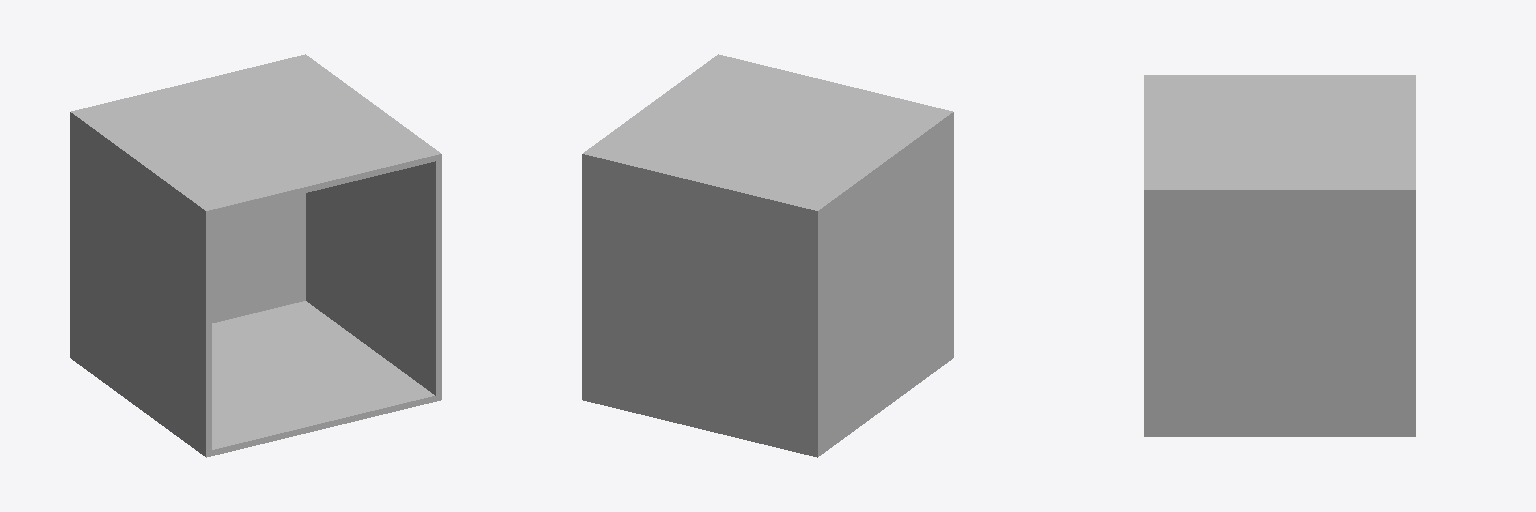
File: cage.obj
The picture shows the model from 3 angles: view 1: azimuth 30°, elevation 25°; view 2: azimuth 150°, elevation 25°; view 3: azimuth 270°, elevation 25°; orthographic projection.
Parts seen in each view (by area): view 1: Cube_Cube.001; view 2: Cube_Cube.001; view 3: Cube_Cube.001.
Boxes of the visible parts, box(x1,y1,x2,y2) form: Cube_Cube.001: box(70, 54, 441, 457); Cube_Cube.001: box(582, 54, 953, 457); Cube_Cube.001: box(1144, 75, 1415, 436).
Size of the model in its own units: 1 by 1 by 1.